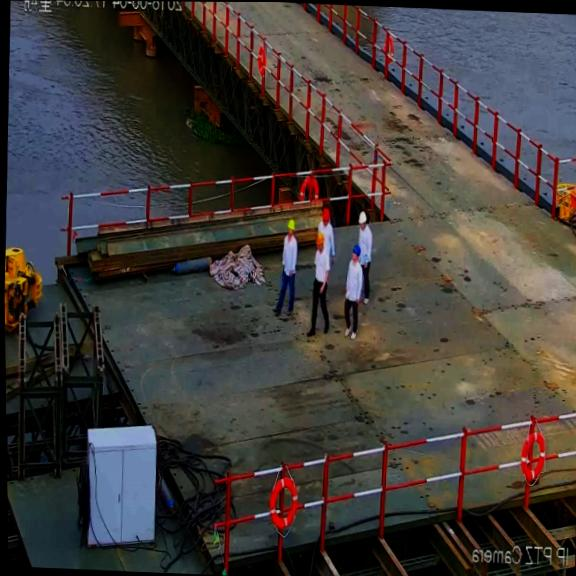no_safety_vest: (344, 261, 365, 307), (309, 247, 328, 293), (278, 238, 297, 282)
